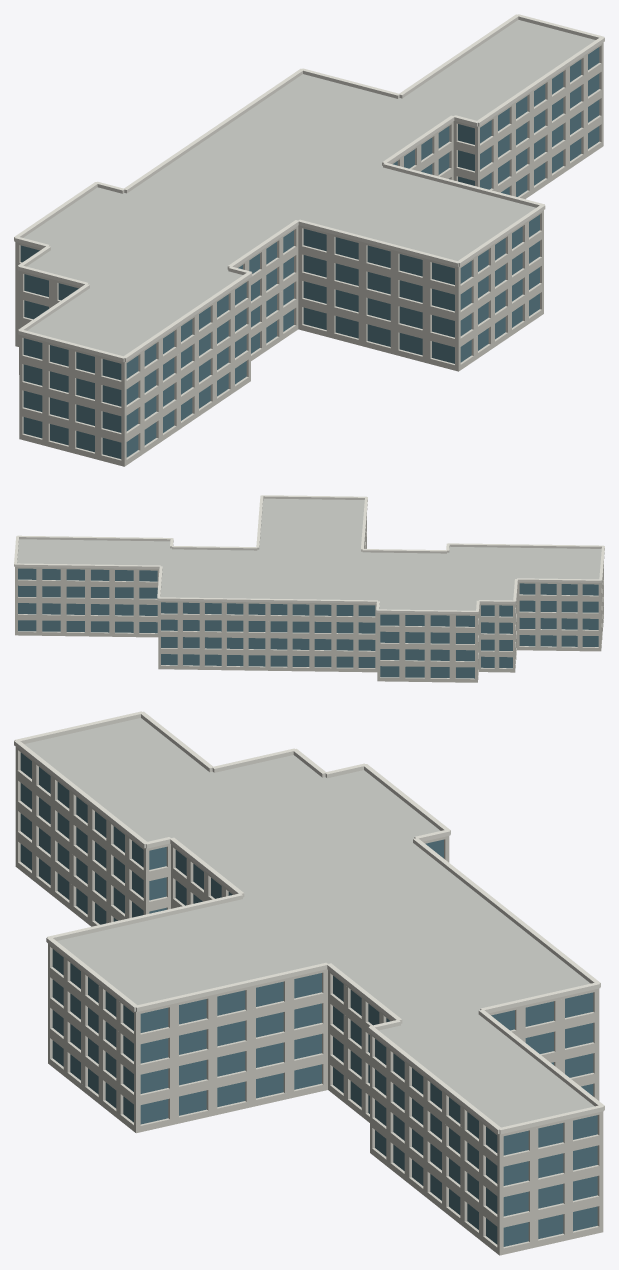
File: sb_586637091.far.glb
3 views of the same model, one above another, from view 1: azimuth 30°, elevation 25°; view 2: azimuth 150°, elevation 25°; view 3: azimuth 270°, elevation 25° (orthographic). The views are drawn at different scales.
Visible parts, largest first — view 1: roof, wall, glass, trim; view 2: roof, wall, glass, trim; view 3: roof, wall, glass, trim.
Part boxes in pixels (box(x1,y1,x2,y2)): roof: box(23, 20, 595, 356); wall: box(15, 42, 603, 466); glass: box(20, 47, 599, 458); trim: box(14, 14, 604, 362); roof: box(17, 498, 601, 610); wall: box(15, 515, 603, 682); glass: box(18, 568, 598, 678); trim: box(14, 495, 604, 614); roof: box(24, 718, 594, 1127); wall: box(15, 747, 603, 1255); glass: box(20, 752, 597, 1246); trim: box(14, 711, 604, 1134).
Size of the model in its own units: 92.93 by 13.04 by 55.4.
